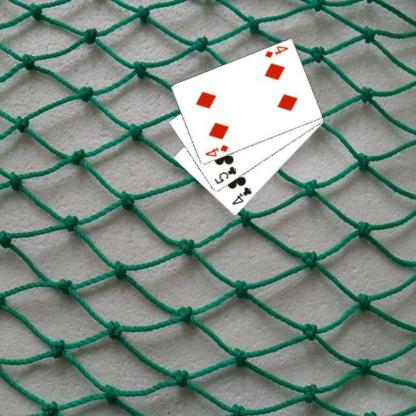4C: (229, 184, 253, 206)
4D: (203, 143, 230, 158), (262, 44, 289, 59)
5C: (212, 164, 238, 186)
